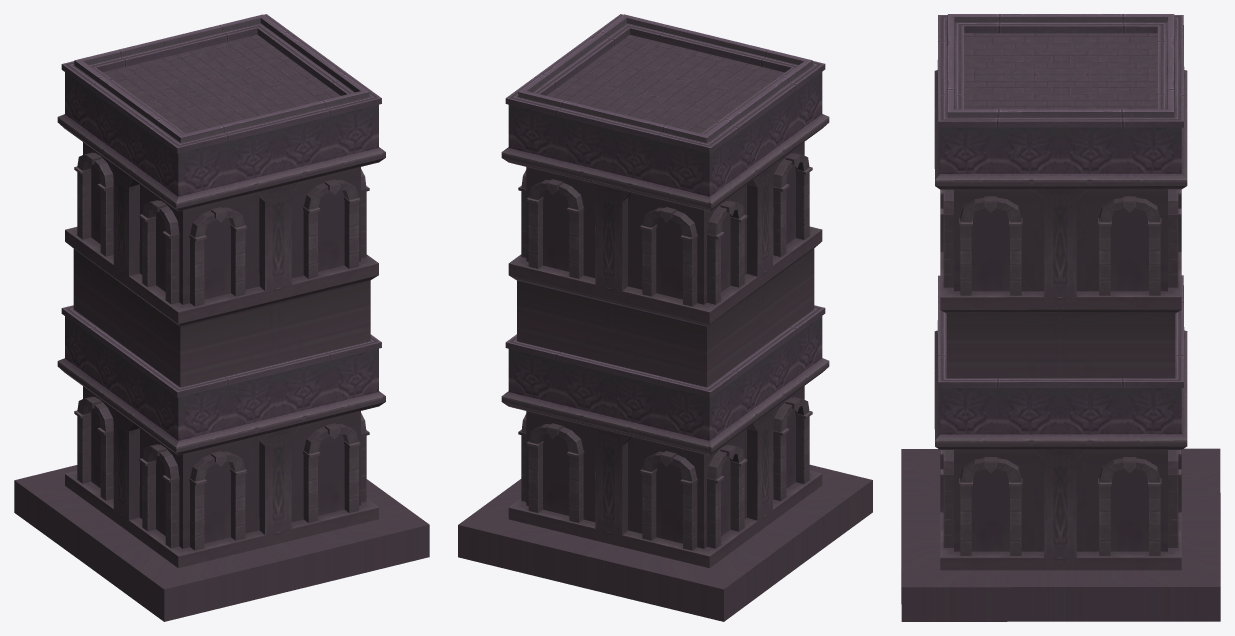
File: SD_xs_jizuo05.FBX
3 views of the same model, side by side, from view 1: azimuth 30°, elevation 25°; view 2: azimuth 150°, elevation 25°; view 3: azimuth 270°, elevation 25° (orthographic). The views are drawn at different scales.
Parts seen in each view (by area): view 1: SD_xs_jizuo05; view 2: SD_xs_jizuo05; view 3: SD_xs_jizuo05.
Part boxes in pixels (<box>): SD_xs_jizuo05: <box>14,14,429,621</box>; SD_xs_jizuo05: <box>458,14,872,621</box>; SD_xs_jizuo05: <box>901,14,1220,621</box>.
Size of the model in its own units: 489 by 805 by 476.
